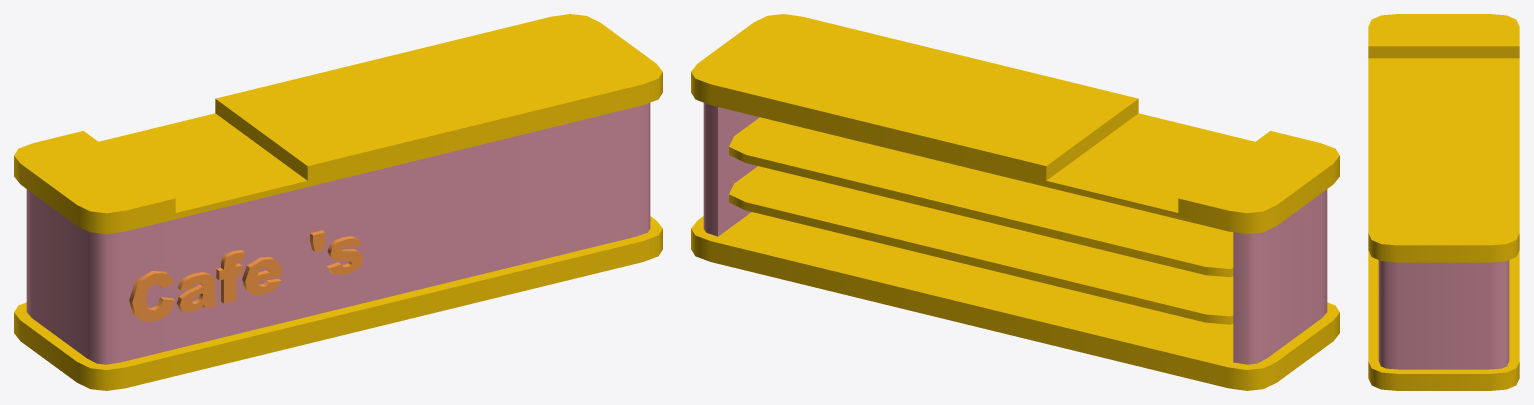
File: Long_Table_001.FBX
3 renders of one model, left to right at view 1: azimuth 30°, elevation 25°; view 2: azimuth 150°, elevation 25°; view 3: azimuth 270°, elevation 25°, orthographic. The views are drawn at different scales.
Visible parts, largest first — view 1: Long_Table_001; view 2: Long_Table_001; view 3: Long_Table_001.
Boxes of the visible parts, x1,y1,x2,y2 form: Long_Table_001: [14, 14, 662, 390]; Long_Table_001: [691, 14, 1339, 390]; Long_Table_001: [1368, 14, 1519, 390].
Bounding box in the file's own units: 290 × 80 × 85.
